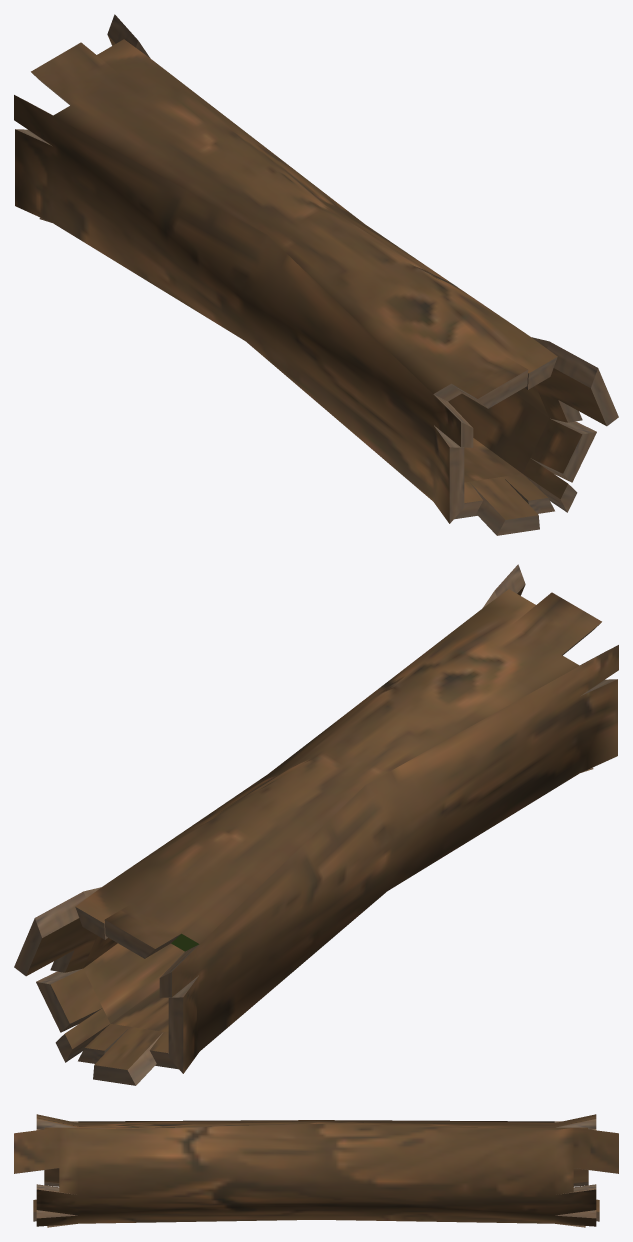
File: Log.FBX
3 views of the same model, one above another, from view 1: azimuth 30°, elevation 25°; view 2: azimuth 150°, elevation 25°; view 3: azimuth 270°, elevation 25° (orthographic). The views are drawn at different scales.
Parts seen in each view (by area): view 1: Log; view 2: Log; view 3: Log.
Part boxes in pixels (box(x1,y1,x2,y2)): Log: box(14, 14, 618, 535); Log: box(14, 564, 618, 1085); Log: box(14, 1114, 618, 1227).
Size of the model in its own units: 58.96 by 59.76 by 317.
